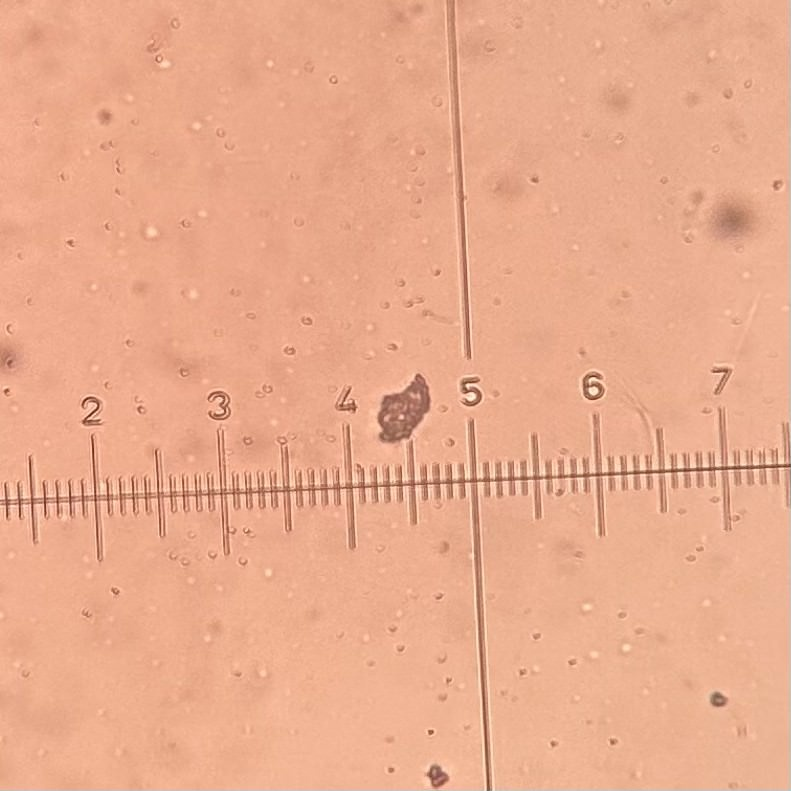not_microplastic: (374, 373, 435, 441), (428, 761, 452, 786), (708, 695, 732, 710)
